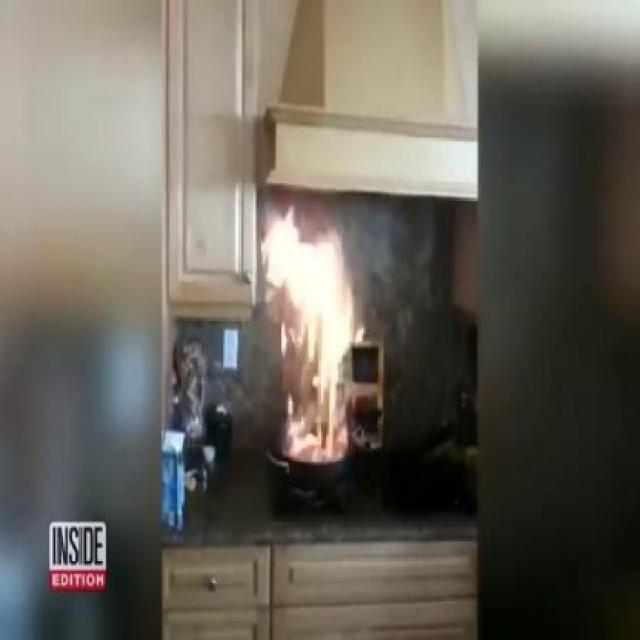fire: (256, 204, 356, 460)
